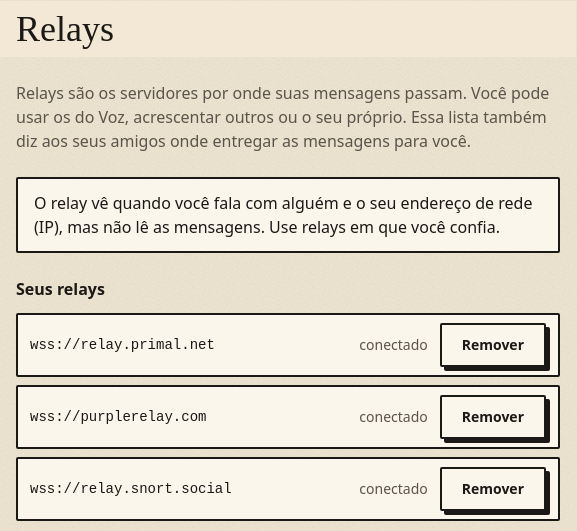
Scenario: tela de relays › remover tira da lista; o ultimo relay nao pode ser removido
The width and height of the screenshot is (577, 531).
Step 1. Click the button "Remover" in the row of "wss://relay.primal.net" → (493, 345), box [440,323,546,367]
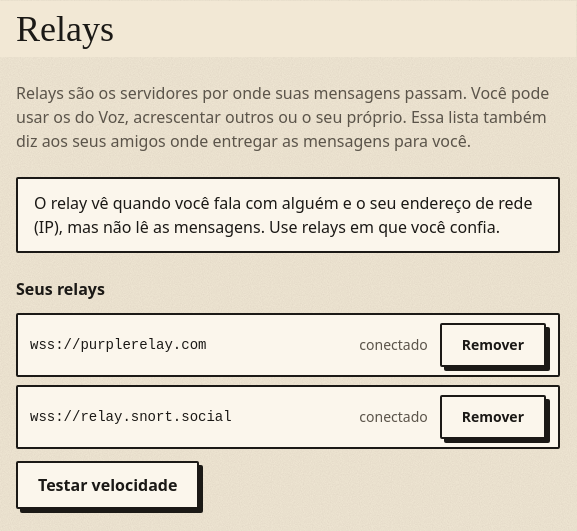
Step 2. Click the button "Remover" in the row of "wss://purplerelay.com" → (493, 345), box [440,323,546,367]
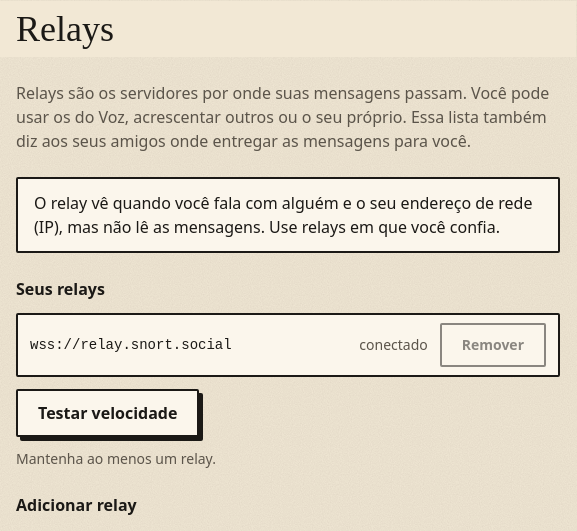
Expected: the text "wss://relay.primal.net" is not shown
Result: the text "Mantenha ao menos um relay." is shown at [16,449,216,468]
